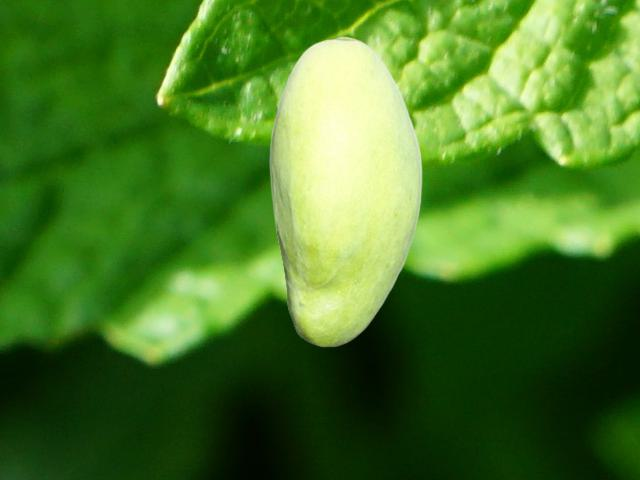green_mango: (269, 36, 421, 346)
